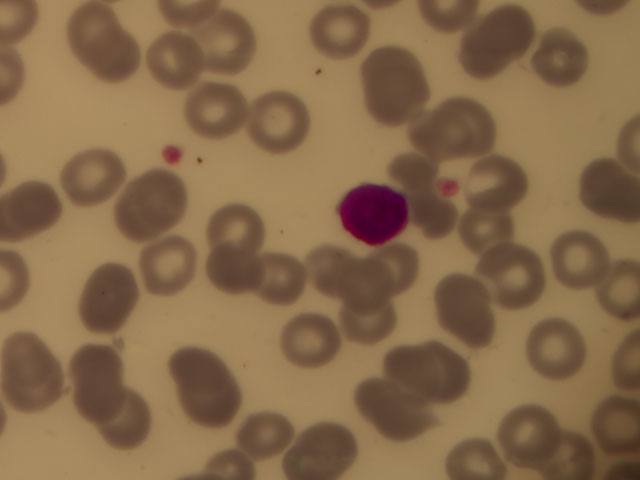Platelets: (431, 175, 462, 202), (157, 144, 184, 166)
RBC: (89, 30, 145, 81), (147, 32, 203, 83), (195, 18, 251, 69), (195, 85, 251, 136), (257, 96, 313, 147), (208, 199, 264, 250), (206, 248, 262, 299), (136, 240, 192, 291), (135, 170, 191, 221), (114, 188, 170, 239), (62, 151, 118, 202), (3, 179, 59, 230), (84, 263, 140, 314), (65, 343, 121, 394), (70, 379, 126, 430), (100, 399, 156, 450), (4, 349, 60, 400), (171, 340, 227, 391), (182, 379, 238, 430), (282, 314, 338, 365), (258, 255, 314, 306), (301, 240, 357, 291), (349, 259, 405, 310), (378, 244, 434, 295), (399, 343, 455, 394), (347, 384, 403, 435), (290, 429, 346, 480), (237, 411, 293, 462), (443, 429, 499, 480), (504, 406, 560, 457), (531, 323, 587, 374), (439, 281, 495, 332), (489, 255, 545, 306), (459, 205, 515, 256), (469, 161, 525, 212), (406, 102, 462, 153), (451, 100, 507, 151), (366, 65, 422, 116), (310, 12, 366, 63), (457, 29, 513, 80), (488, 1, 544, 52), (533, 34, 589, 85), (582, 164, 638, 215), (551, 238, 607, 289), (584, 396, 640, 447), (59, 1, 115, 51)
WBC: (336, 181, 411, 248)
